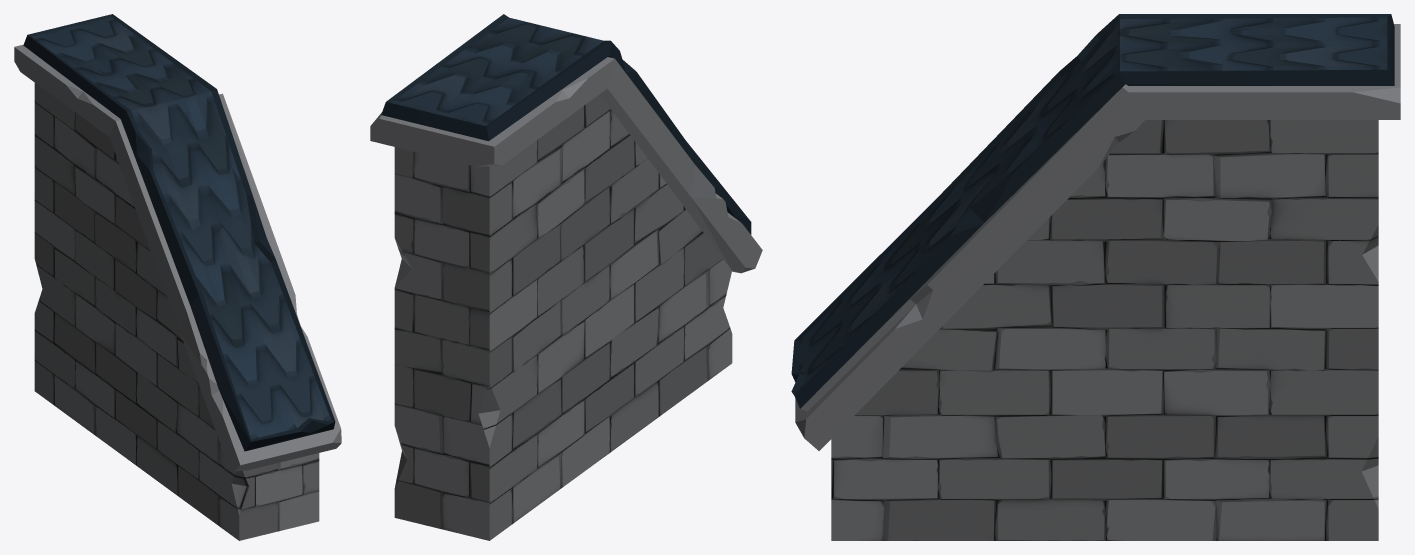
Rendered from SM_Bld_Buttress_Pillar_03.fbx.
3 views of the same model, side by side, from view 1: azimuth 30°, elevation 25°; view 2: azimuth 150°, elevation 25°; view 3: azimuth 270°, elevation 25° (orthographic). The views are drawn at different scales.
Visible parts, largest first — view 1: SM_Bld_Buttress_Pillar_03; view 2: SM_Bld_Buttress_Pillar_03; view 3: SM_Bld_Buttress_Pillar_03.
Boxes of the visible parts, box(x1,y1,x2,y2) form: SM_Bld_Buttress_Pillar_03: box(14, 14, 341, 540); SM_Bld_Buttress_Pillar_03: box(370, 14, 762, 540); SM_Bld_Buttress_Pillar_03: box(791, 14, 1400, 540).
Bounding box in the file's own units: 96.38 × 311 × 363.
